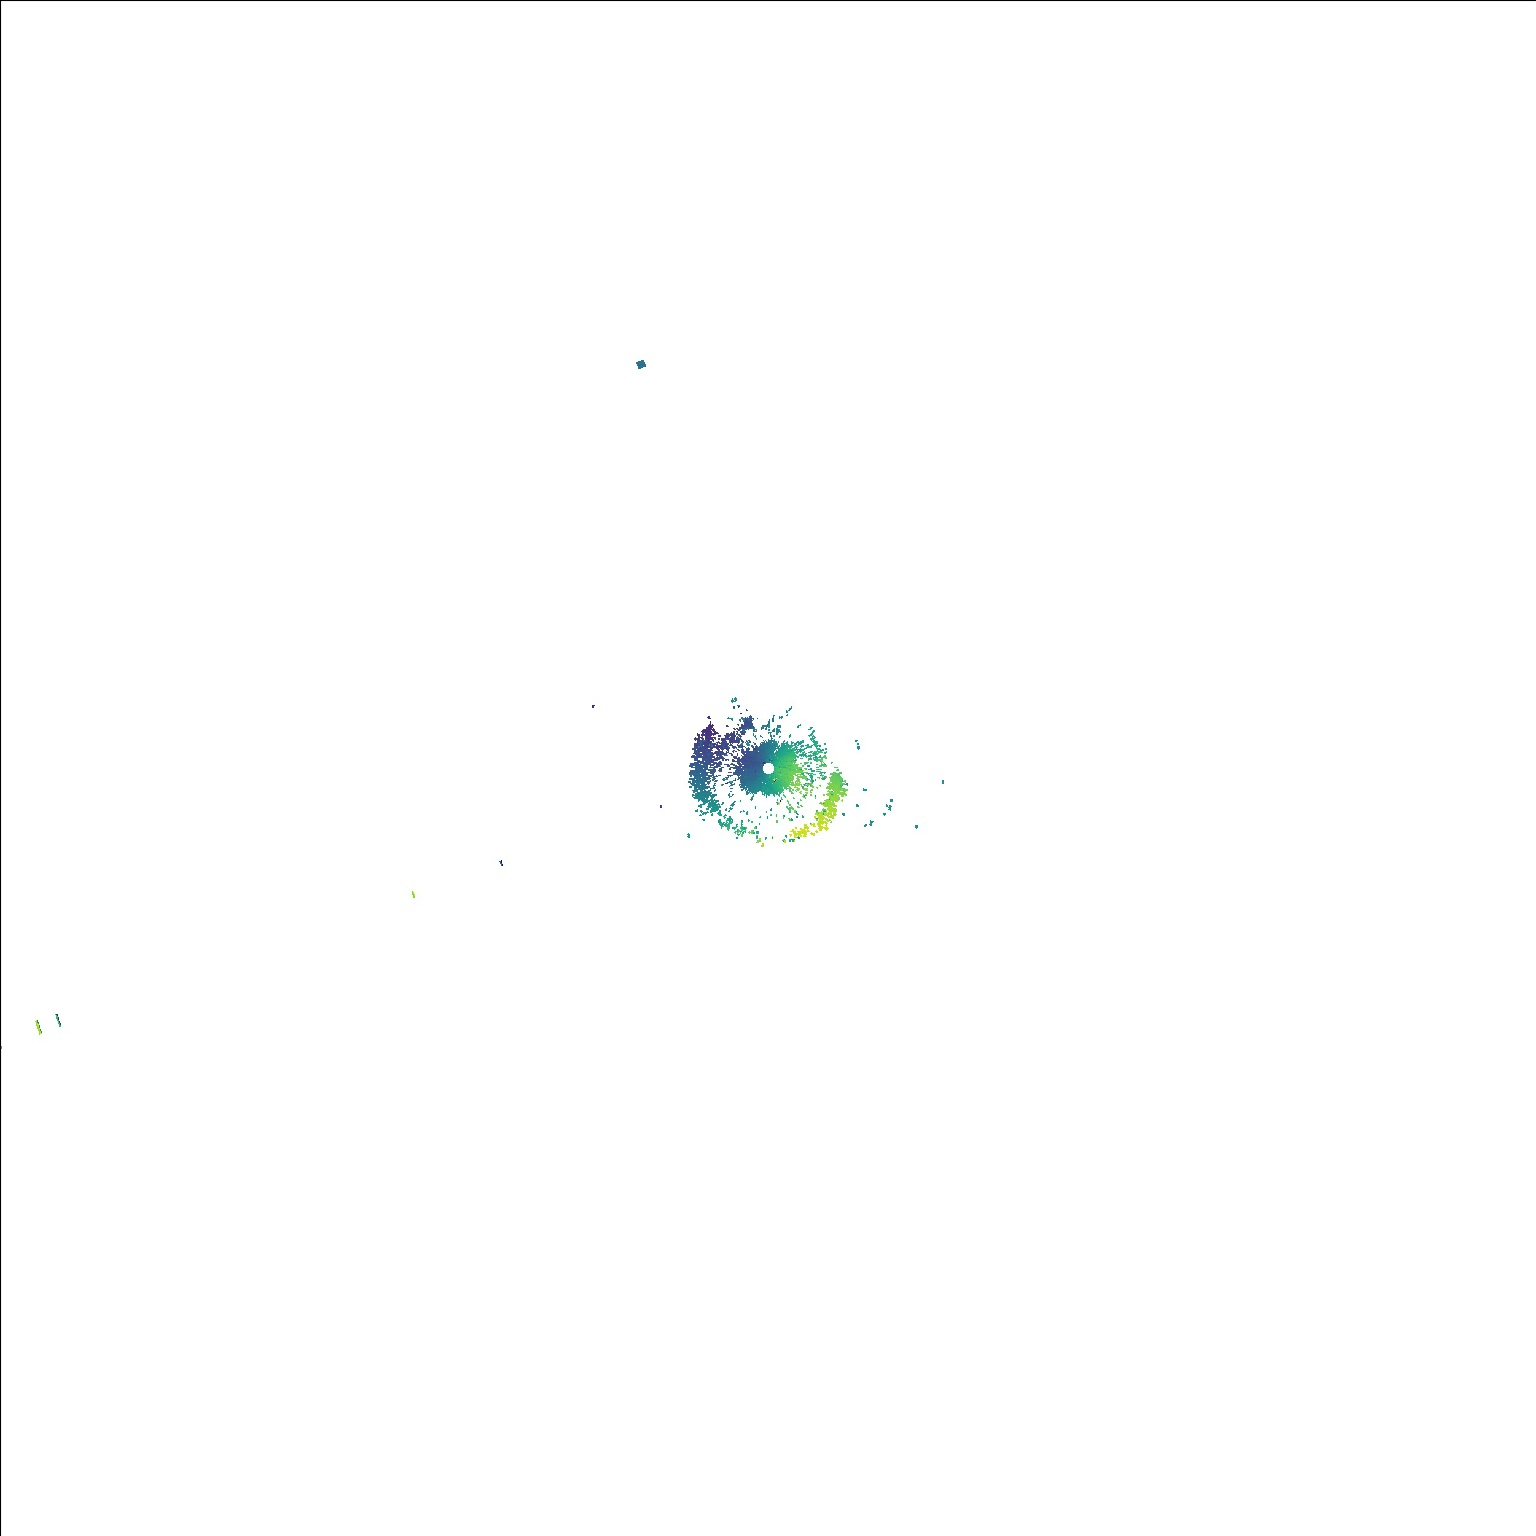fall: (632, 356, 651, 371)
